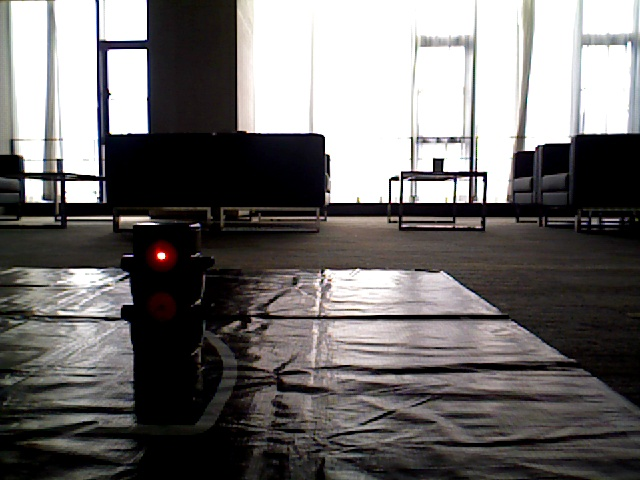red: (134, 225, 203, 359)
